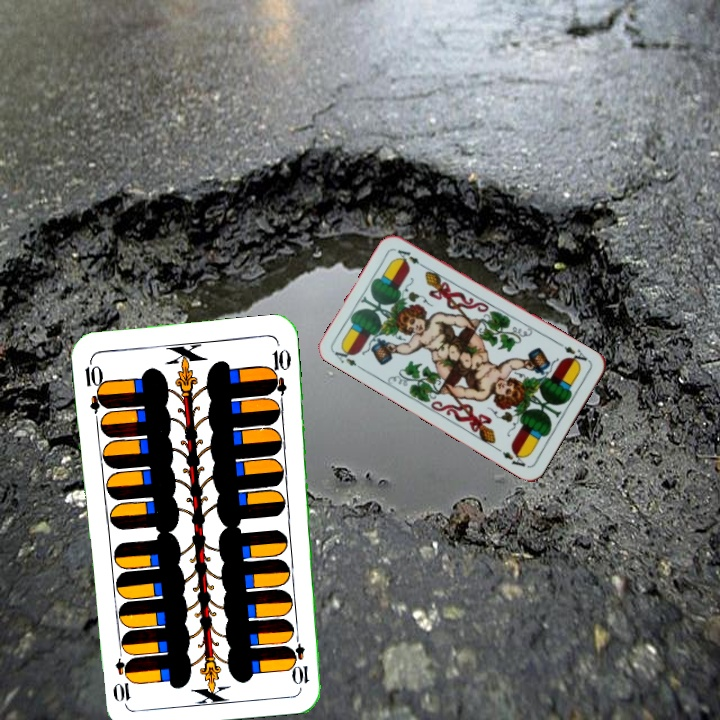E10: (80, 355, 109, 414), (289, 628, 311, 687)
EA: (330, 343, 367, 374), (555, 339, 592, 368)
